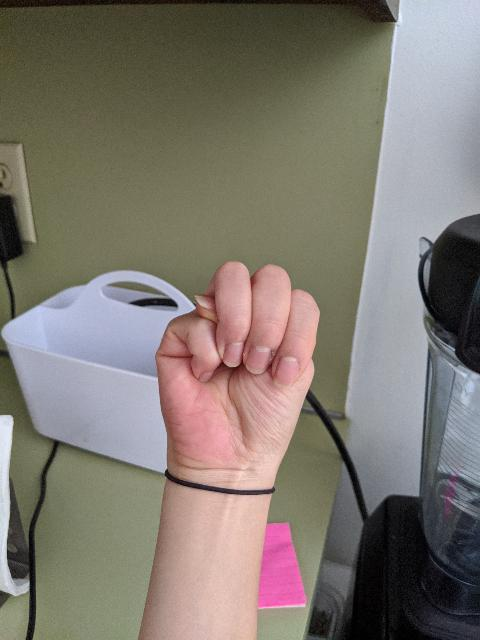M: (152, 255, 328, 479)
